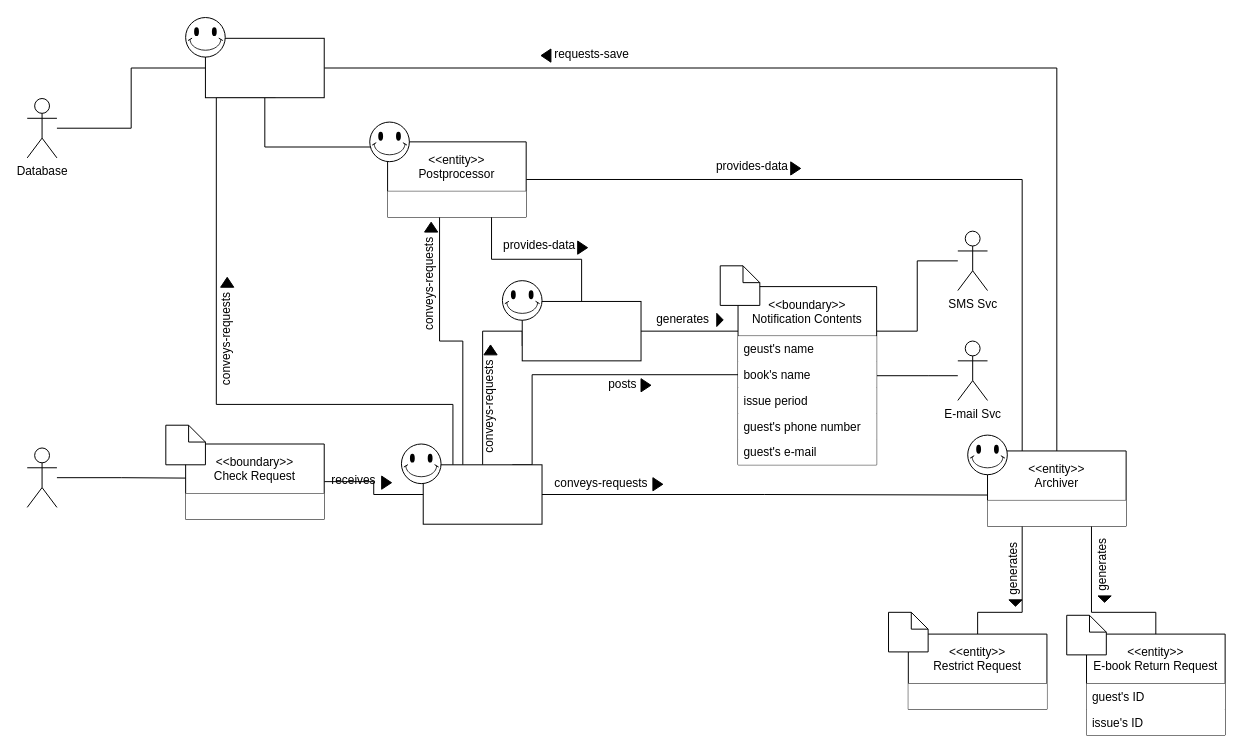
This 1242x755 diagram has some shape labels left out. Each missing label, with the centre of its shape:
<<boundary>> Database Connection: the point at 264,67
<<control>> Controller: the point at 482,494
<<entity>> Notification Builder: the point at 581,330
current tracking number: the point at 1056,513
Guest: the point at 41,477
Post Processing Criteria: the point at 456,204
update parameters: the point at 977,696
user's identity: the point at 254,506
